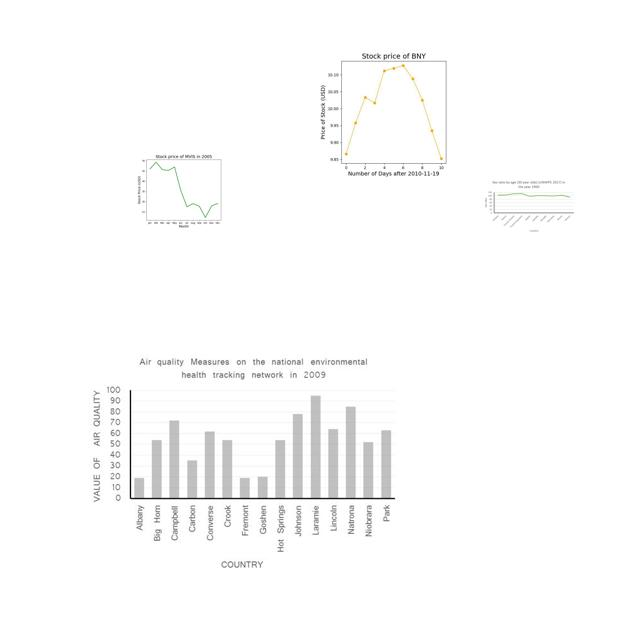Graph: (84, 349, 402, 577), (303, 45, 480, 178), (130, 150, 235, 229), (482, 179, 575, 234)
